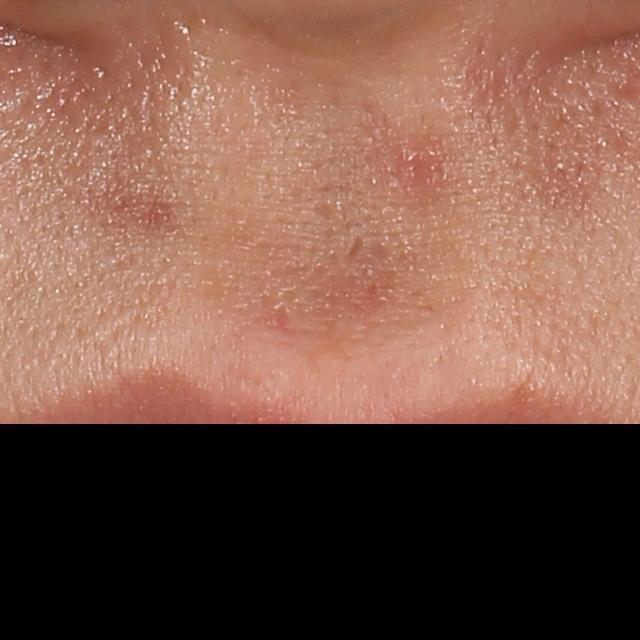atrophic_scar: (314, 200, 333, 220)
